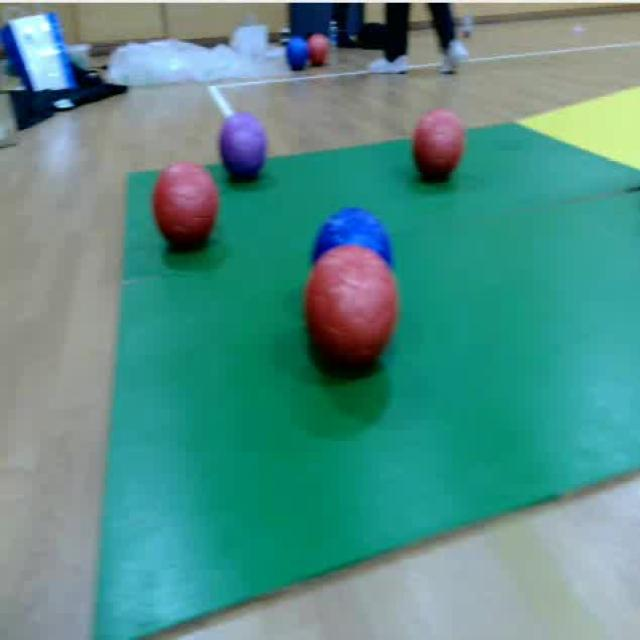blue_ball: (307, 204, 398, 248), (283, 36, 310, 70)
purple_ball: (215, 109, 269, 180)
red_ball: (313, 253, 389, 376), (150, 162, 224, 250), (411, 106, 466, 183), (308, 34, 330, 66)
